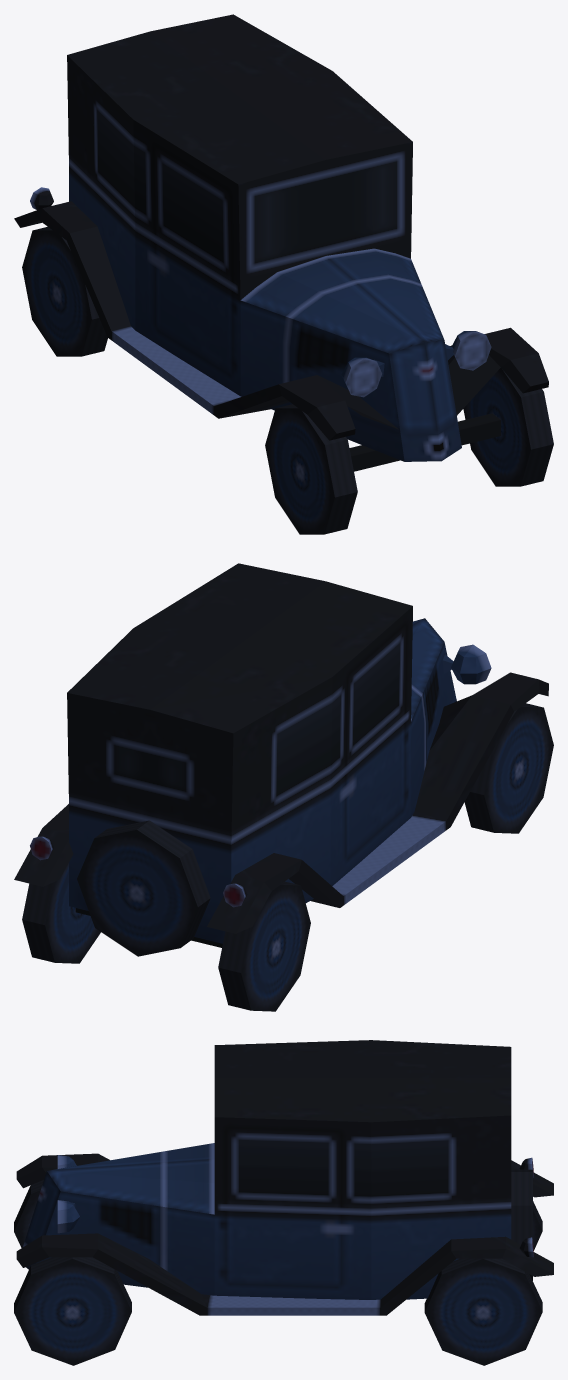
The picture shows the model from 3 angles, top to bottom: view 1: azimuth 30°, elevation 25°; view 2: azimuth 150°, elevation 25°; view 3: azimuth 270°, elevation 25°; orthographic projection. The views are drawn at different scales.
Parts seen in each view (by area): view 1: car7; view 2: car7; view 3: car7.
Boxes of the visible parts, x1,y1,x2,y2 form: car7: (14, 14, 553, 534); car7: (14, 563, 553, 1011); car7: (14, 1040, 553, 1365).
Size of the model in its own units: 2.43 by 2.86 by 5.78.
1 material, 1 textured.
